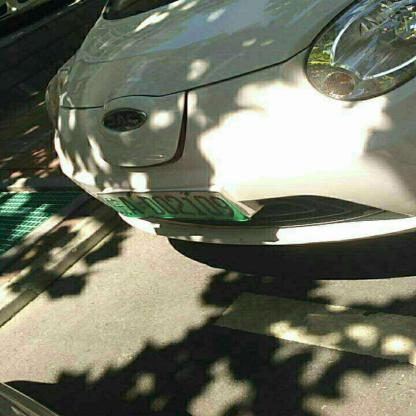lp: (97, 189, 245, 219)
